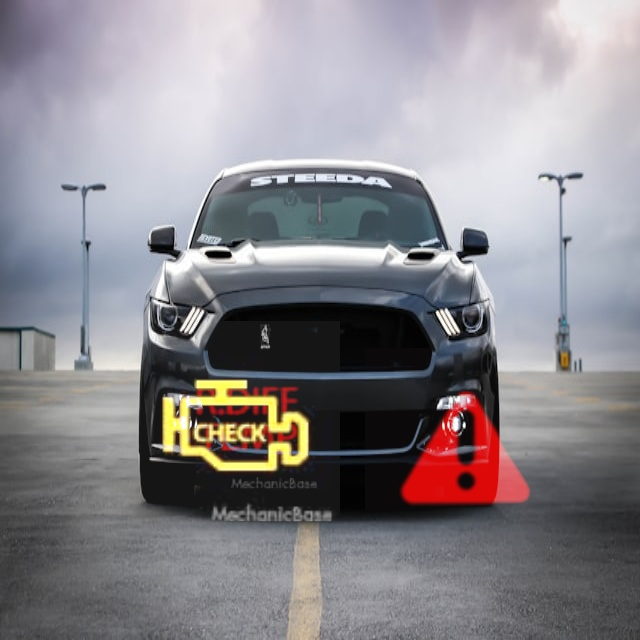symbol: (129, 321, 340, 532), (365, 348, 566, 549), (172, 345, 323, 496)
